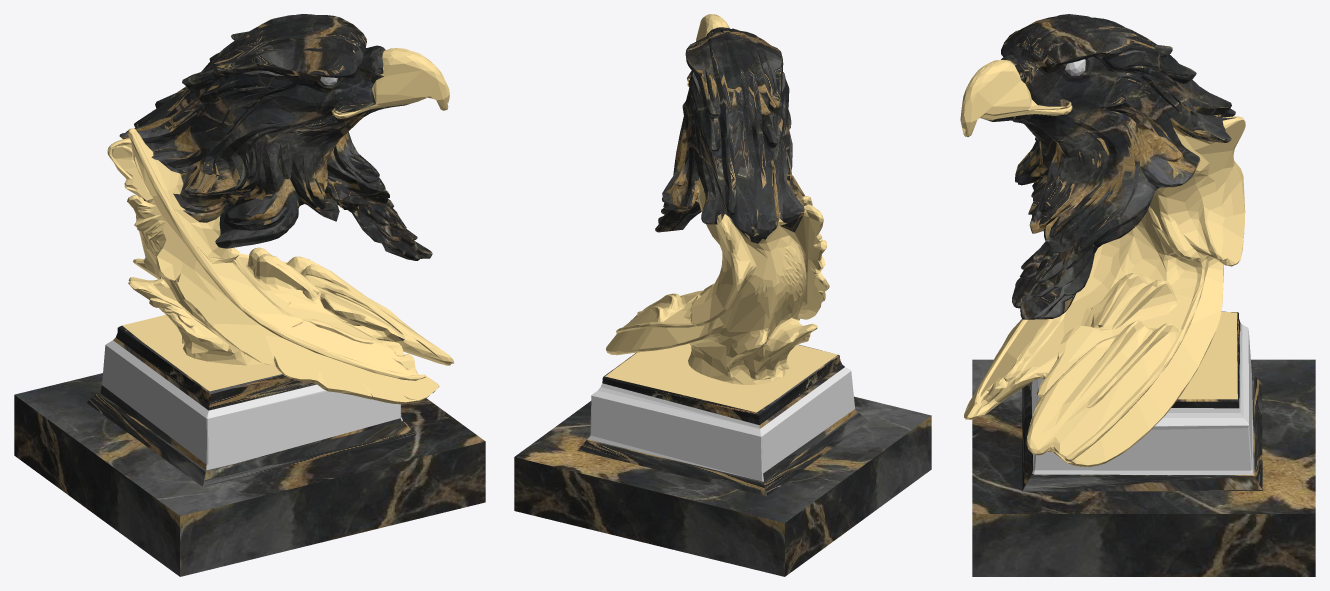
File: marcador.glb
3 renders of one model, left to right at view 1: azimuth 30°, elevation 25°; view 2: azimuth 150°, elevation 25°; view 3: azimuth 270°, elevation 25°, orthographic. The views are drawn at different scales.
Visible parts, largest first — view 1: Cube.001; view 2: Cube.001; view 3: Cube.001.
Part boxes in pixels (x1,y1,x2,y2): Cube.001: (14,14,485,576); Cube.001: (514,14,931,576); Cube.001: (960,14,1315,576).
Bounding box in the file's own units: 0.8161 × 1.2 × 0.7877.
Materials: 3 (1 with a texture image).
